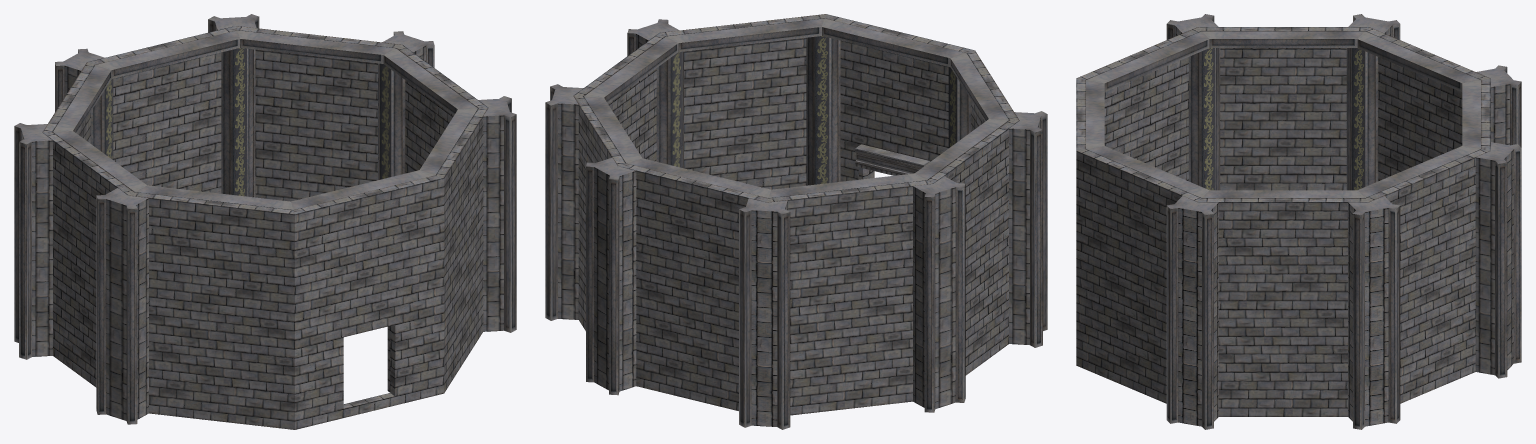
File: sanctum_base_01.glb
The picture shows the model from 3 angles, left to right: view 1: azimuth 30°, elevation 25°; view 2: azimuth 150°, elevation 25°; view 3: azimuth 270°, elevation 25°; orthographic projection.
Visible parts, largest first — view 1: sanctum_base_01; view 2: sanctum_base_01; view 3: sanctum_base_01.
Boxes of the visible parts, bbox=[...] form: sanctum_base_01: bbox=[14, 14, 516, 429]; sanctum_base_01: bbox=[545, 14, 1047, 429]; sanctum_base_01: bbox=[1076, 14, 1521, 429].
Bounding box in the file's own units: 48.28 × 24 × 45.14.
1 material, 1 textured.
